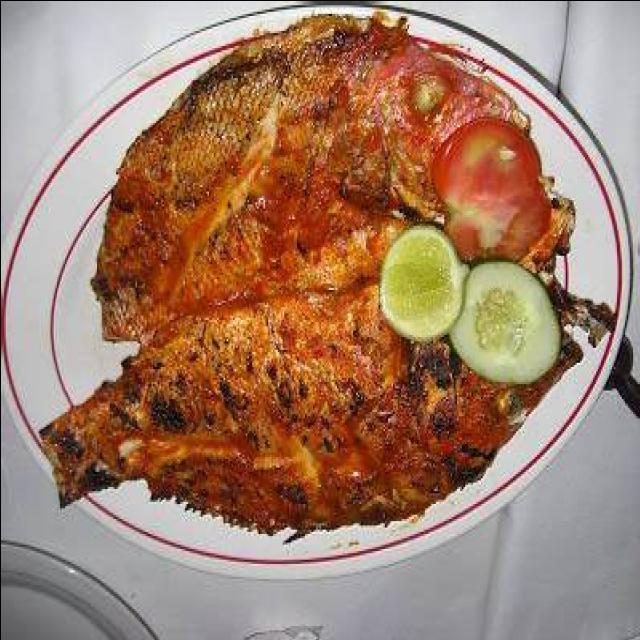ikan bakar: (93, 34, 552, 340), (37, 283, 568, 533)
